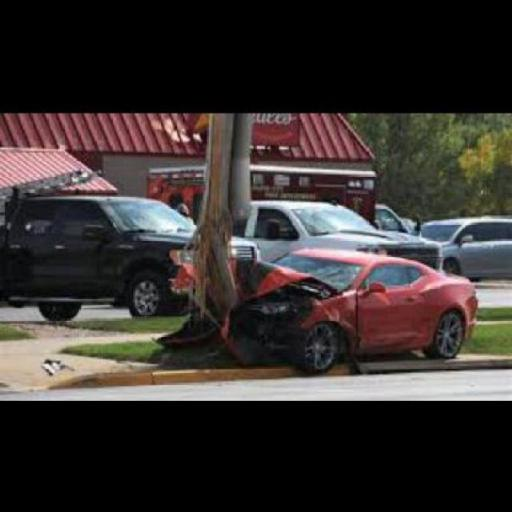小汽车: (2, 194, 196, 312), (417, 216, 512, 274)
小汽车撞物: (151, 241, 476, 366)
